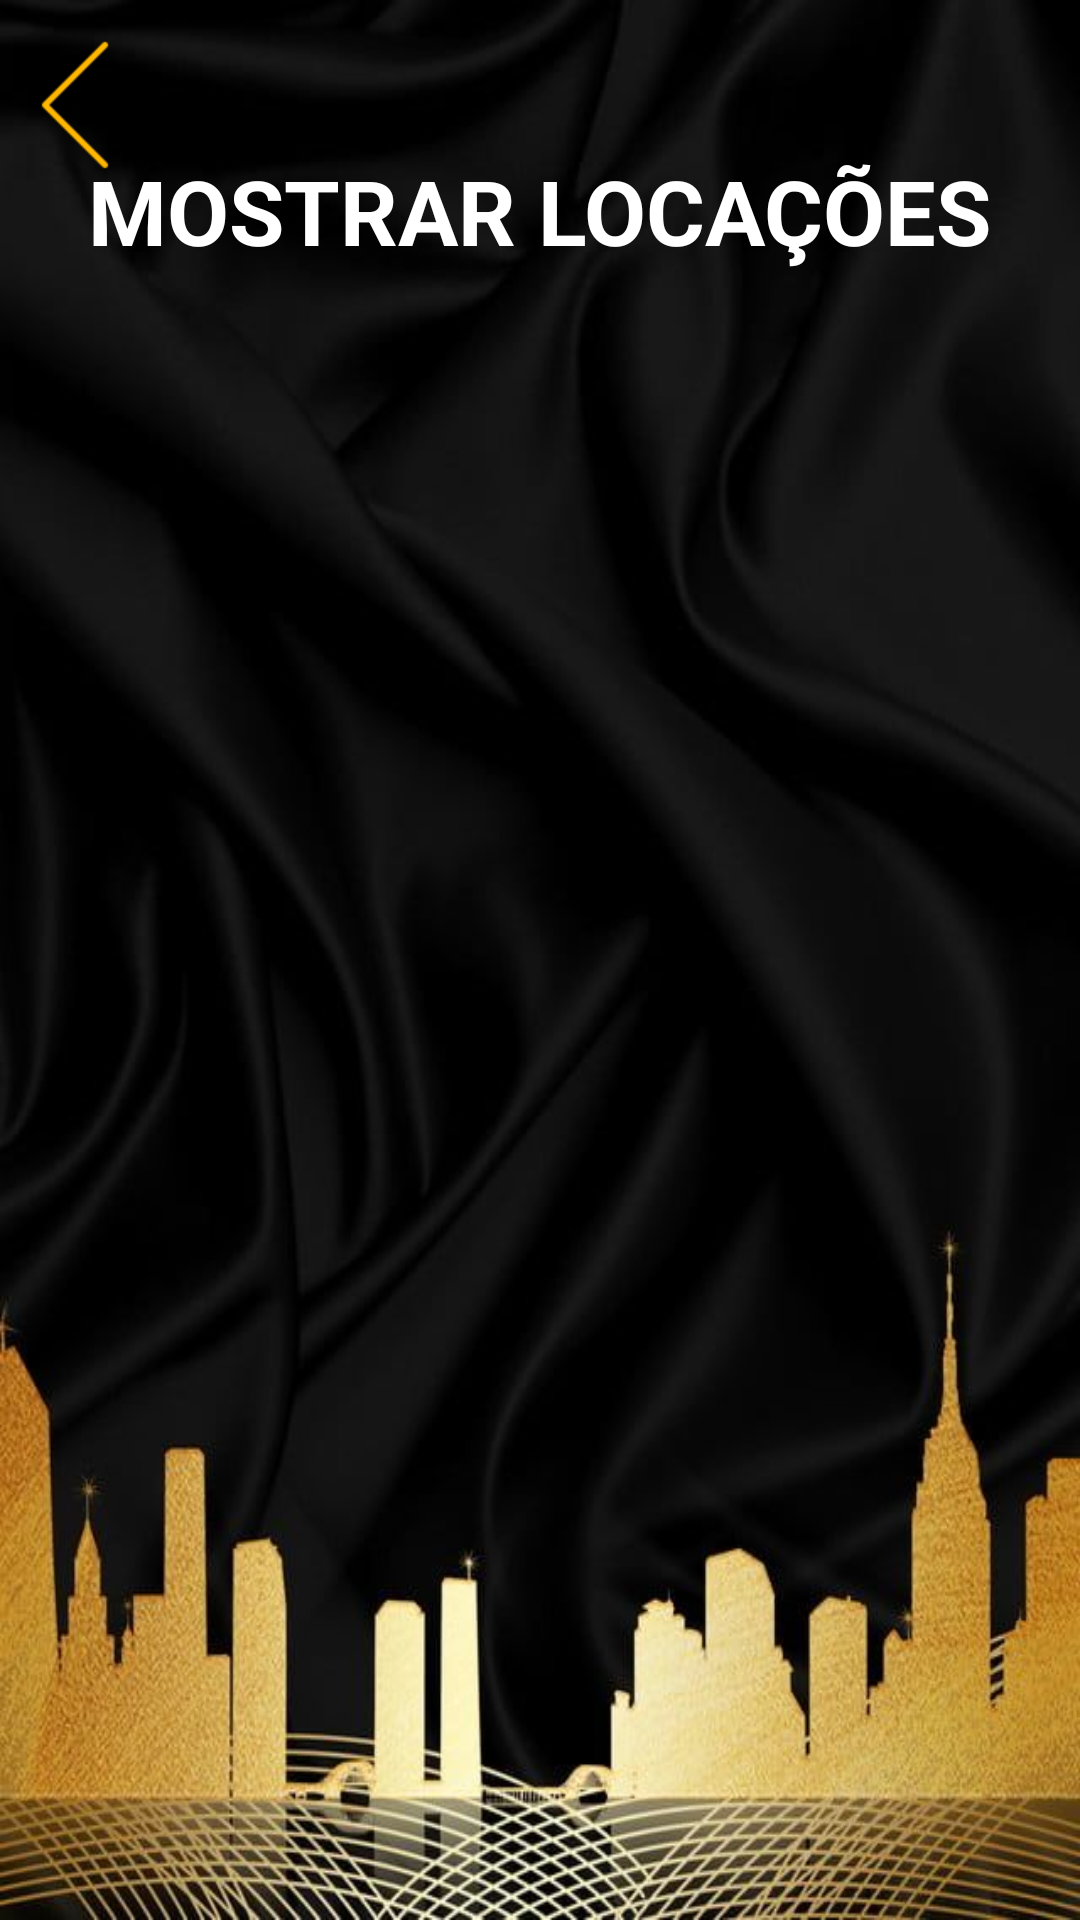

Icons on this 1080x1920 Android screen, each with its box as (x1, y1, x2, y2):
back: (41, 41, 109, 169)
